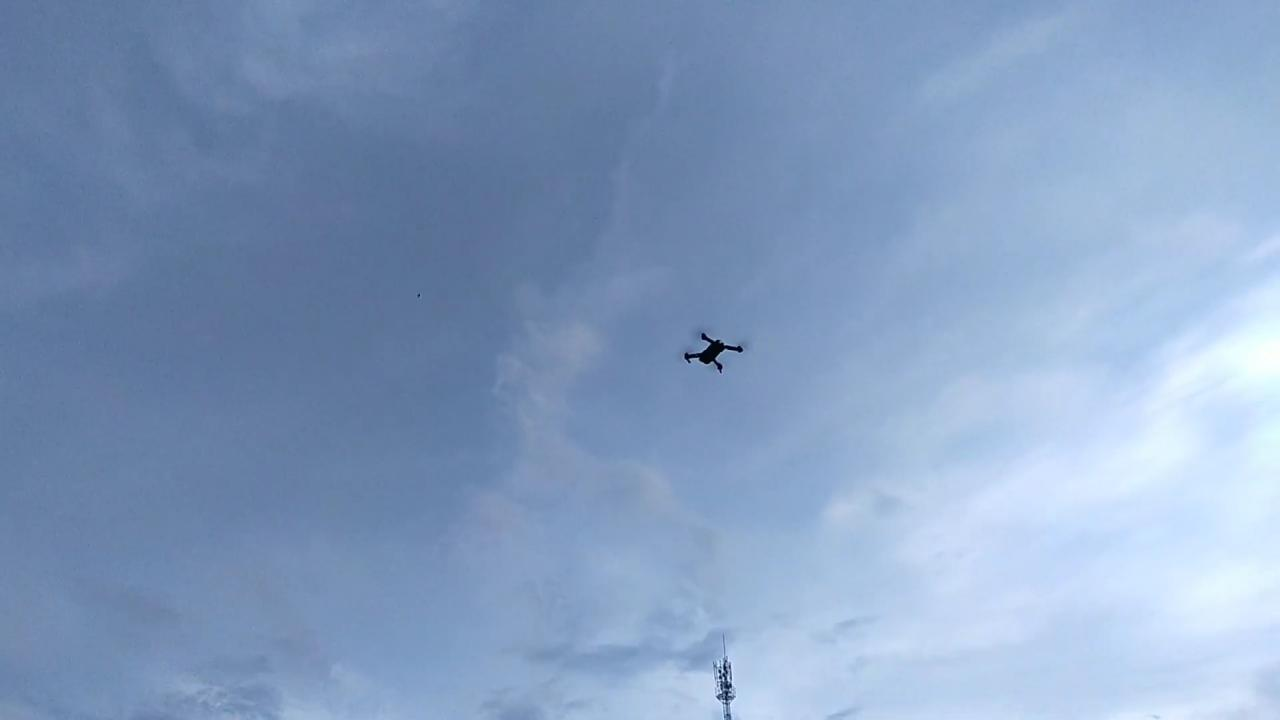Drone: (668, 316, 759, 385)
